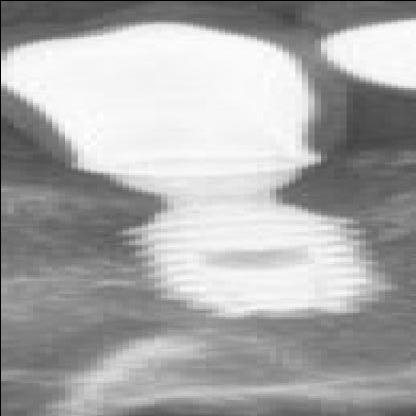Bicon: (110, 211, 402, 327)
